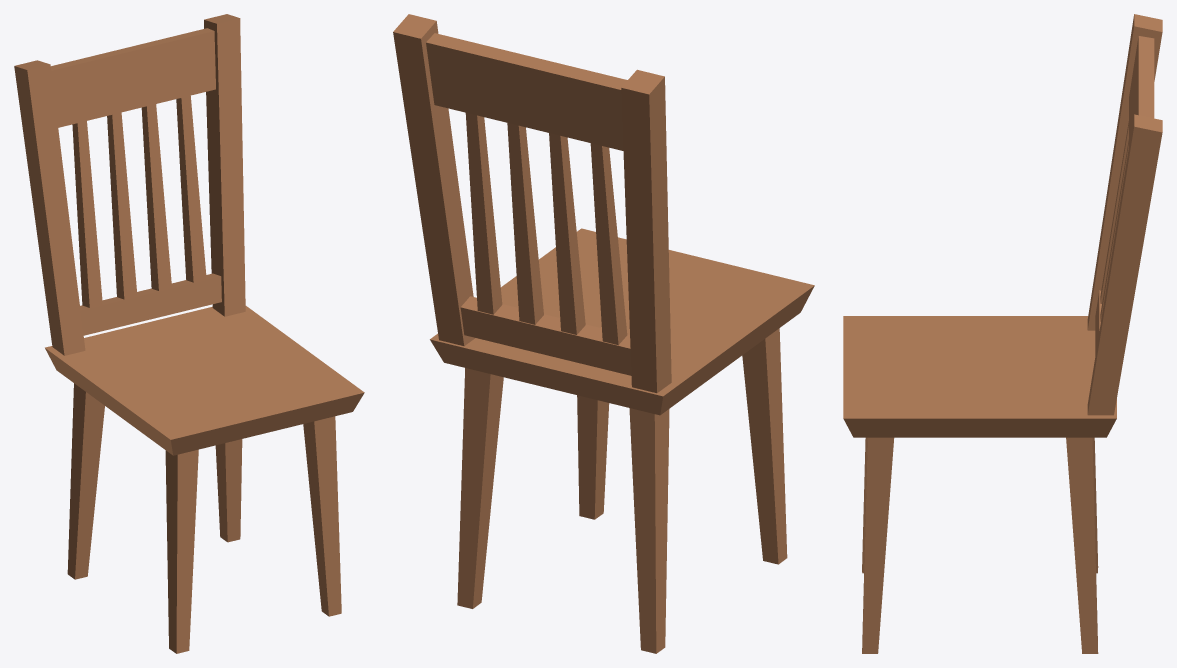
Rendered from chair01.fbx.
The picture shows the model from 3 angles, left to right: view 1: azimuth 30°, elevation 25°; view 2: azimuth 150°, elevation 25°; view 3: azimuth 270°, elevation 25°; orthographic projection. The views are drawn at different scales.
Visible parts, largest first — view 1: Cube.060; view 2: Cube.060; view 3: Cube.060.
Part boxes in pixels (x1,y1,x2,y2): Cube.060: (14, 14, 364, 653); Cube.060: (393, 14, 814, 653); Cube.060: (843, 14, 1162, 653).
Size of the model in its own units: 3.32 by 7.42 by 3.98.
